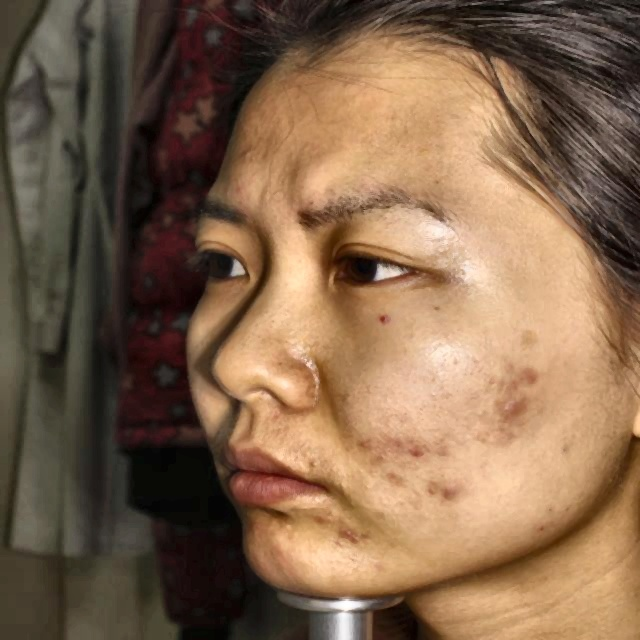pustule: (431, 475, 472, 513), (497, 393, 530, 428), (325, 518, 361, 546), (510, 362, 546, 387), (402, 432, 429, 462), (237, 141, 265, 160), (243, 513, 265, 536), (385, 465, 409, 486)
